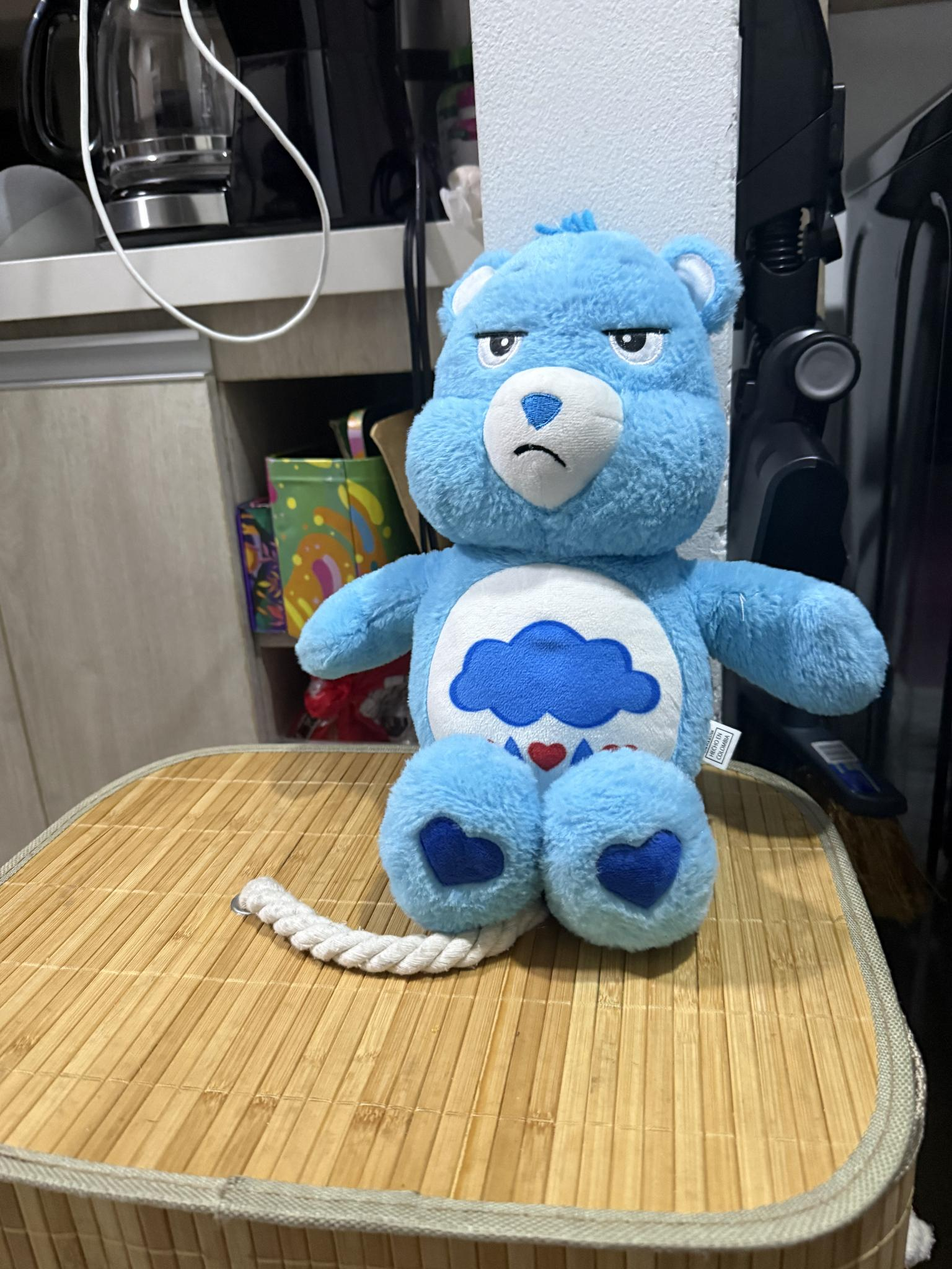peluche_Juan Jose: (300, 229, 889, 960)
